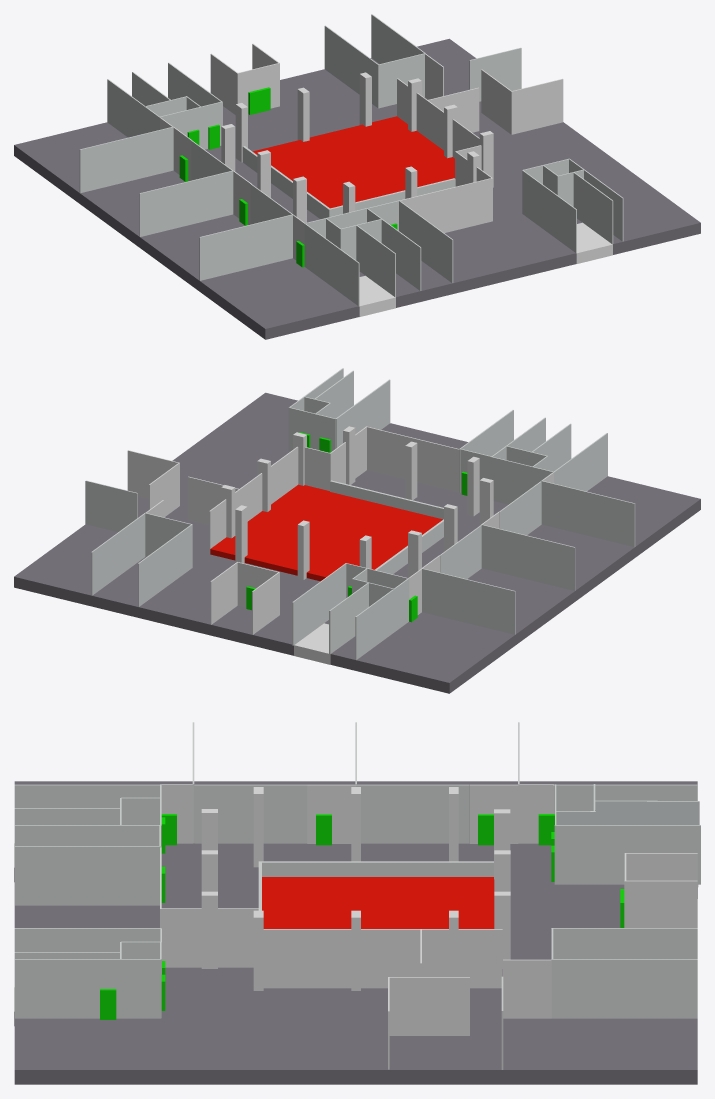
Rendered from Floor 00.fbx.
3 renders of one model, top to bottom at view 1: azimuth 30°, elevation 25°; view 2: azimuth 150°, elevation 25°; view 3: azimuth 270°, elevation 25°, orthographic. The views are drawn at different scales.
Visible parts, largest first — view 1: Cube, Cube.001, Cube.005, Cube.004, Cube.003, Cube.027, Cube.047, Cube.029, Cube.023, Cube.018, Cube.035, Cube.020 (+38 smaller); view 2: Cube, Cube.001, Cube.003, Cube.004, Cube.005, Cube.027, Cube.020, Cube.019, Cube.018, Cube.120, Cube.014, Cube.022 (+38 smaller); view 3: Cube, Cube.020, Cube.001, Cube.019, Cube.035, Cube.028, Cube.014, Cube.119, Cube.118, Cube.024, Cube.026, Cube.018 (+30 smaller).
Boxes of the visible parts, bbox=[...] form: Cube: bbox=[14, 38, 700, 339]; Cube.001: bbox=[252, 116, 454, 208]; Cube.005: bbox=[79, 127, 173, 193]; Cube.004: bbox=[139, 170, 233, 236]; Cube.003: bbox=[199, 214, 292, 280]; Cube.027: bbox=[400, 178, 492, 232]; Cube.047: bbox=[304, 223, 359, 306]; Cube.029: bbox=[522, 170, 576, 253]; Cube.023: bbox=[511, 78, 563, 134]; Cube.018: bbox=[324, 25, 379, 108]; Cube.035: bbox=[399, 200, 453, 283]; Cube.020: bbox=[397, 78, 479, 158]; Cube: bbox=[14, 392, 700, 693]; Cube.001: bbox=[210, 484, 442, 581]; Cube.003: bbox=[541, 480, 635, 547]; Cube.004: bbox=[481, 524, 575, 590]; Cube.005: bbox=[422, 568, 515, 634]; Cube.027: bbox=[366, 426, 458, 492]; Cube.020: bbox=[209, 446, 298, 554]; Cube.019: bbox=[91, 512, 145, 595]; Cube.018: bbox=[138, 524, 192, 606]; Cube.120: bbox=[355, 578, 409, 659]; Cube.014: bbox=[292, 563, 346, 645]; Cube.022: bbox=[85, 480, 137, 531]; Cube: bbox=[14, 781, 697, 1084]; Cube.020: bbox=[263, 929, 502, 988]; Cube.001: bbox=[262, 877, 494, 928]; Cube.019: bbox=[551, 959, 697, 1018]; Cube.035: bbox=[15, 846, 161, 905]; Cube.028: bbox=[15, 959, 161, 1018]; Cube.014: bbox=[554, 825, 700, 884]; Cube.119: bbox=[356, 784, 469, 843]; Cube.118: bbox=[194, 784, 307, 843]; Cube.024: bbox=[389, 977, 469, 1035]; Cube.026: bbox=[161, 908, 259, 967]; Cube.018: bbox=[551, 928, 697, 958].
Bounding box in the file's own units: 4201 × 647 × 4224.
